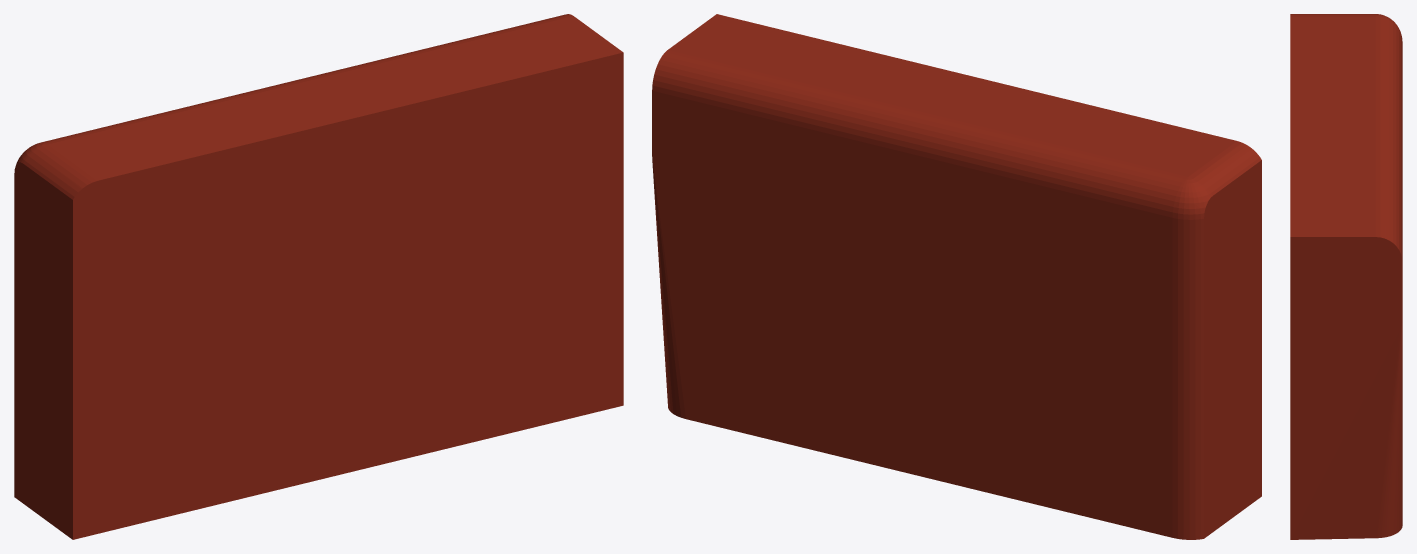
3 renders of one model, left to right at view 1: azimuth 30°, elevation 25°; view 2: azimuth 150°, elevation 25°; view 3: azimuth 270°, elevation 25°, orthographic. The views are drawn at different scales.
Visible parts, largest first — view 1: decomp_15.obj; view 2: decomp_15.obj; view 3: decomp_15.obj.
Boxes of the visible parts, x1,y1,x2,y2 form: decomp_15.obj: (14, 14, 623, 539); decomp_15.obj: (652, 14, 1261, 539); decomp_15.obj: (1290, 14, 1402, 539).
Size of the model in its own units: 0.0419 by 0.0257 by 0.00862.
